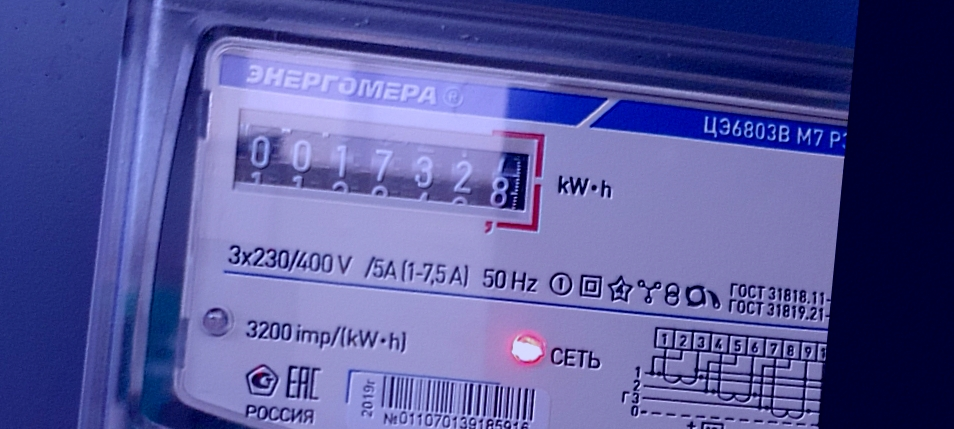0: (248, 132, 274, 171), (290, 138, 313, 173)
1: (332, 141, 351, 179)
2: (450, 158, 474, 196)
3: (411, 153, 436, 191)
7: (368, 145, 396, 185)
8: (487, 173, 510, 210)
screen: (220, 105, 551, 236)
